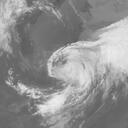cyclone: (46, 41, 100, 85)
